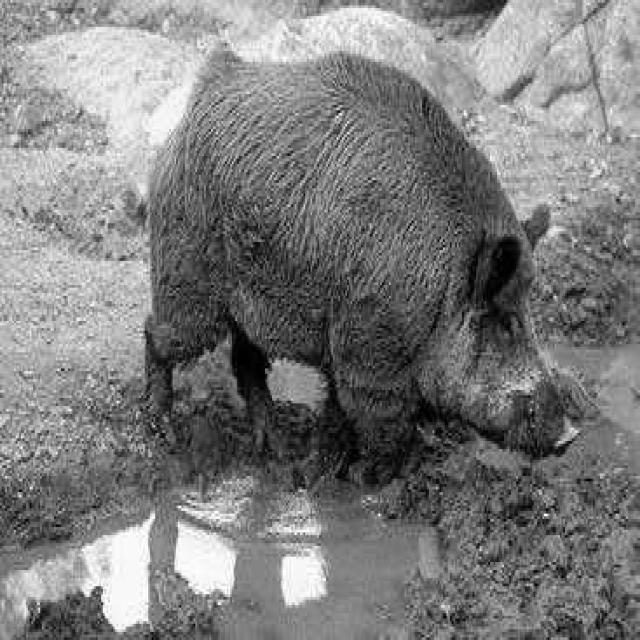boar: (150, 48, 567, 452)
